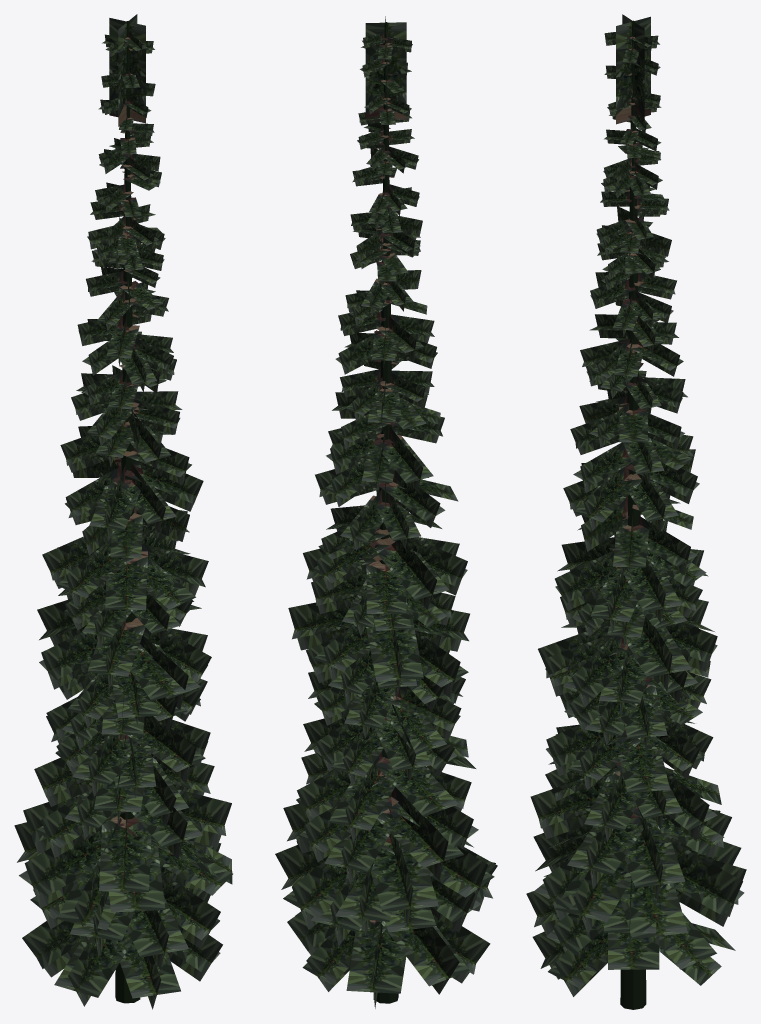
File: category_mesh_tree_0_v1.glb
3 renders of one model, left to right at view 1: azimuth 30°, elevation 25°; view 2: azimuth 150°, elevation 25°; view 3: azimuth 270°, elevation 25°, orthographic.
Parts seen in each view (by area): view 1: category_mesh_tree_0_v1; view 2: category_mesh_tree_0_v1; view 3: category_mesh_tree_0_v1.
Boxes of the visible parts, left/top/right/bottom form: category_mesh_tree_0_v1: left=14, top=14, right=232, bottom=1009; category_mesh_tree_0_v1: left=275, top=16, right=497, bottom=1008; category_mesh_tree_0_v1: left=526, top=14, right=746, bottom=1009.
Size of the model in its own units: 3.96 by 18.61 by 3.78.
Materials: 1 (1 with a texture image).
